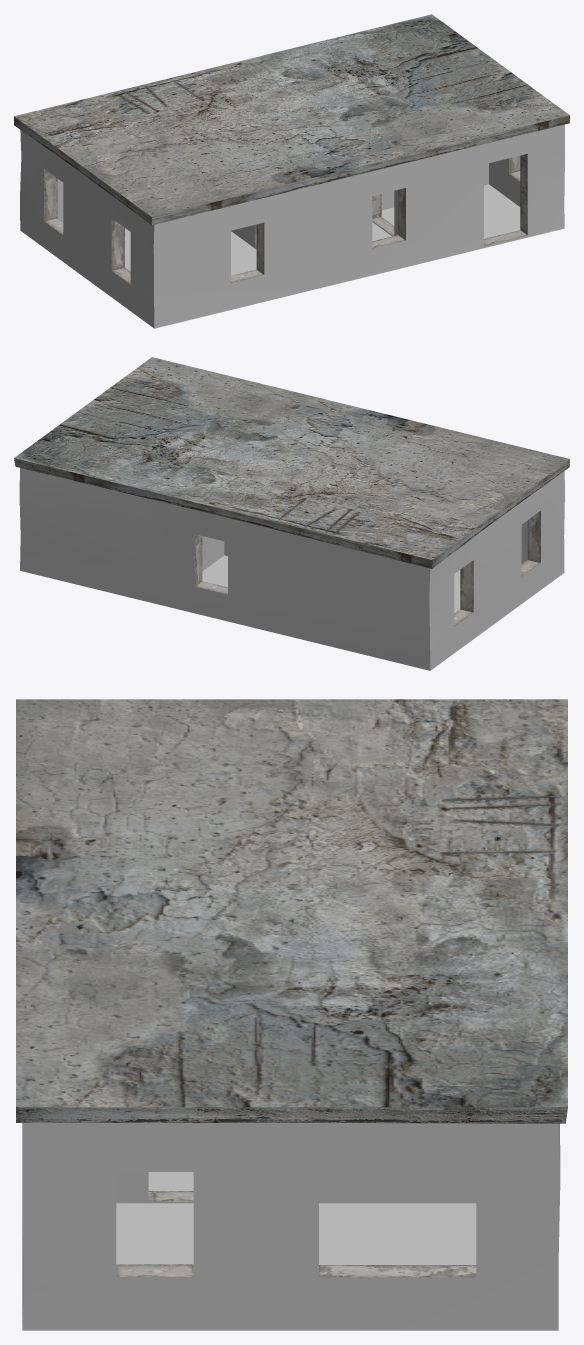
The model's file is Corps_Form_01_4.FBX.
3 renders of one model, top to bottom at view 1: azimuth 30°, elevation 25°; view 2: azimuth 150°, elevation 25°; view 3: azimuth 270°, elevation 25°, orthographic. The views are drawn at different scales.
Visible parts, largest first — view 1: Corps_01_4; view 2: Corps_01_4; view 3: Corps_01_4.
Part boxes in pixels (left/top/right/bottom): Corps_01_4: left=14, top=14, right=569, bottom=328; Corps_01_4: left=14, top=357, right=569, bottom=670; Corps_01_4: left=16, top=699, right=567, bottom=1330.
Bounding box in the file's own units: 1182 × 676 × 307.
